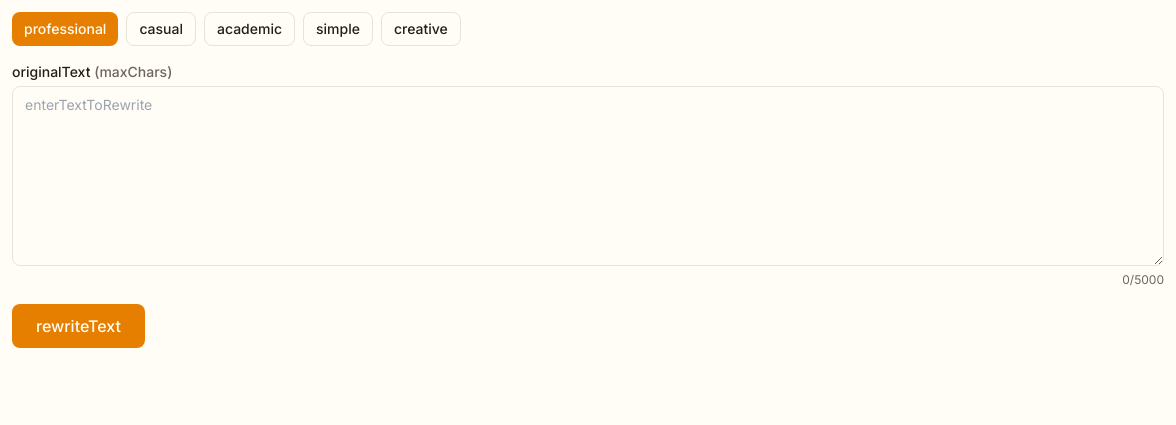
Test: TextRewriter › shows rate limit error on 429
This screenshot has width=1176, height=425.
In the text box with placeholder "enterTextToRewrite": x=588, y=176 x1=12 y1=86 x2=1164 y2=266, type "Some text"
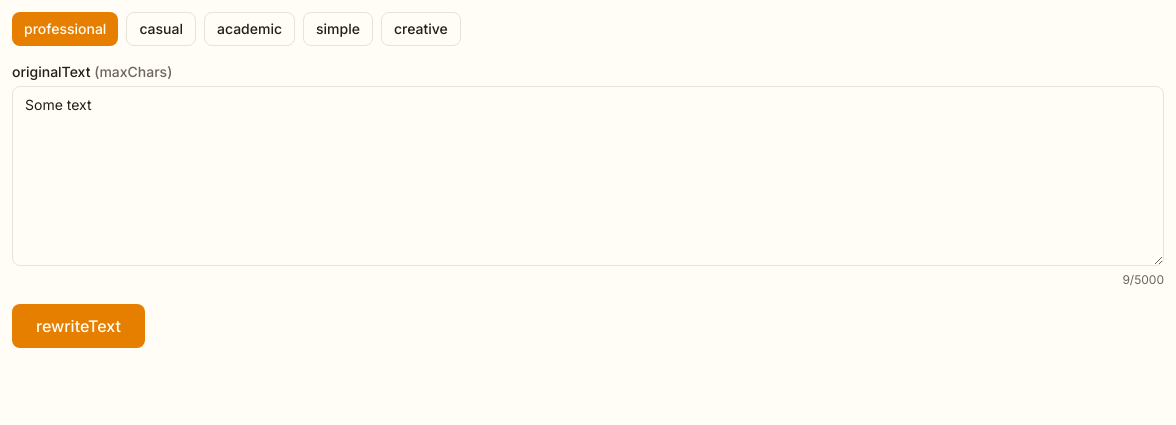
Click the button "rewriteText": x=78, y=326 x1=12 y1=304 x2=145 y2=348
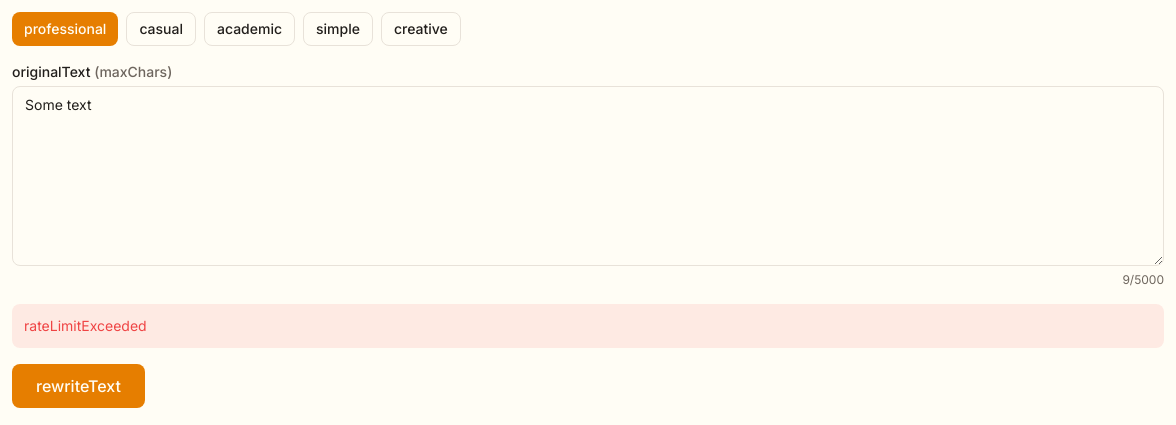
Now the text "rateLimitExceeded" is shown, box x1=12 y1=304 x2=1164 y2=348
